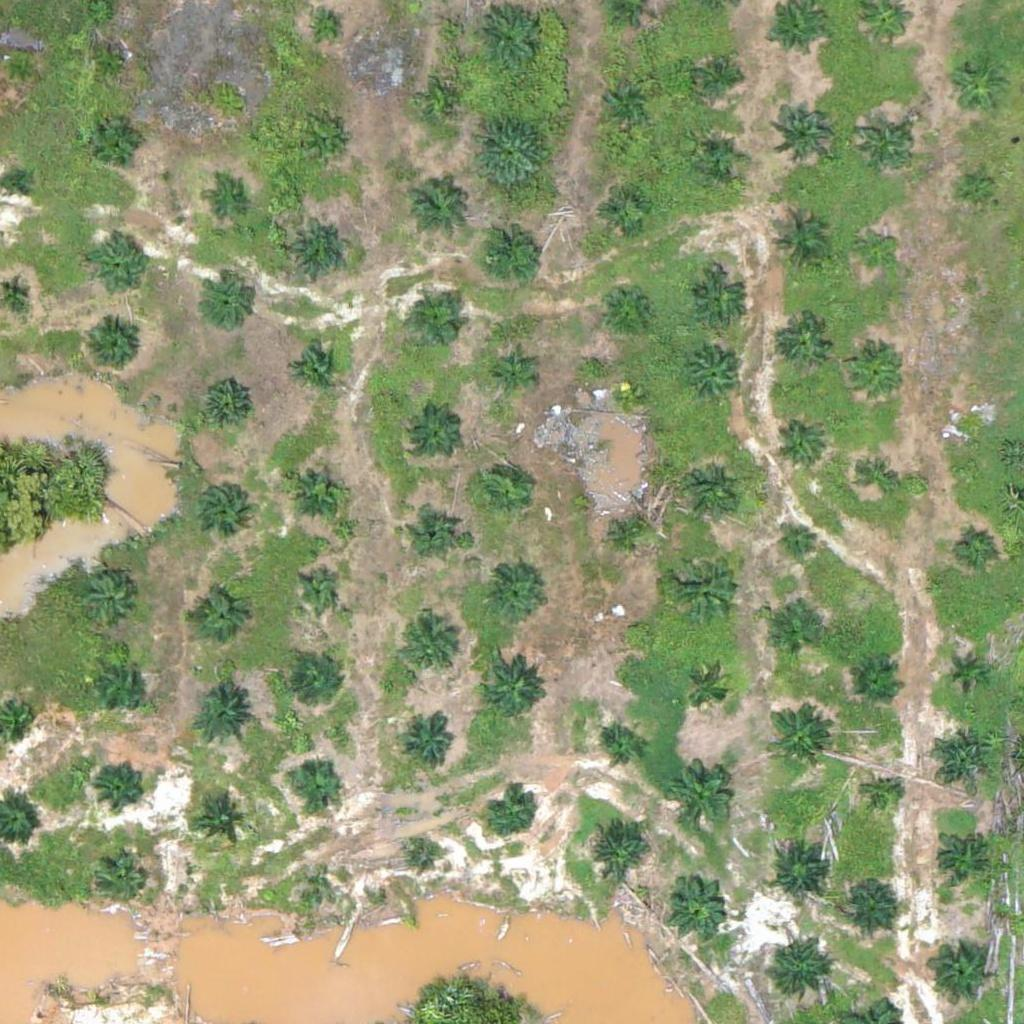Kelapa_Sawit: (474, 218, 549, 294), (669, 544, 744, 620), (474, 114, 549, 190), (929, 723, 992, 786), (666, 764, 729, 827), (403, 173, 466, 236), (945, 55, 1008, 118), (688, 269, 751, 332), (191, 687, 254, 750), (288, 219, 351, 282), (763, 941, 826, 1004), (662, 873, 725, 936), (930, 942, 993, 1005), (765, 705, 827, 768), (482, 653, 544, 716), (400, 616, 462, 679), (680, 461, 742, 524), (768, 213, 830, 276), (855, 114, 917, 177), (771, 97, 833, 160), (479, 563, 541, 626), (82, 316, 144, 379), (286, 458, 348, 521), (86, 234, 148, 297), (585, 818, 647, 881), (685, 348, 747, 410), (770, 843, 832, 905), (837, 871, 899, 933), (289, 754, 339, 805), (293, 655, 343, 706), (191, 592, 241, 643), (202, 278, 252, 329), (85, 577, 135, 628), (96, 660, 146, 711), (96, 758, 146, 809), (196, 797, 246, 848), (199, 379, 249, 430), (290, 343, 340, 394), (92, 115, 142, 166), (404, 720, 454, 770), (485, 787, 535, 837), (411, 504, 461, 554), (414, 298, 464, 348), (410, 408, 460, 458), (600, 281, 650, 331), (599, 185, 649, 235), (781, 316, 831, 366), (851, 348, 901, 398), (764, 611, 814, 661), (477, 464, 527, 514), (196, 482, 246, 532), (934, 833, 984, 883), (850, 658, 900, 708), (681, 667, 731, 717), (596, 724, 646, 774), (604, 507, 654, 557), (98, 859, 148, 909), (693, 51, 743, 101), (695, 135, 745, 185), (601, 71, 651, 121), (776, 420, 826, 470), (492, 354, 530, 392), (205, 184, 243, 222), (866, 779, 904, 817), (779, 522, 817, 560), (856, 233, 894, 271), (954, 416, 992, 454), (860, 458, 898, 496), (310, 127, 347, 165), (945, 654, 982, 692), (959, 530, 997, 567), (299, 571, 336, 609), (1, 51, 39, 88), (94, 45, 131, 83), (959, 170, 996, 207), (432, 91, 457, 117), (410, 840, 435, 865), (313, 17, 338, 42), (613, 382, 638, 407), (620, 617, 645, 642), (3, 172, 28, 197), (315, 874, 340, 899)
